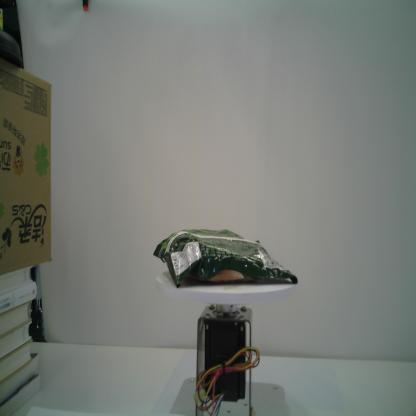Instant Noodles: (150, 225, 300, 290)
